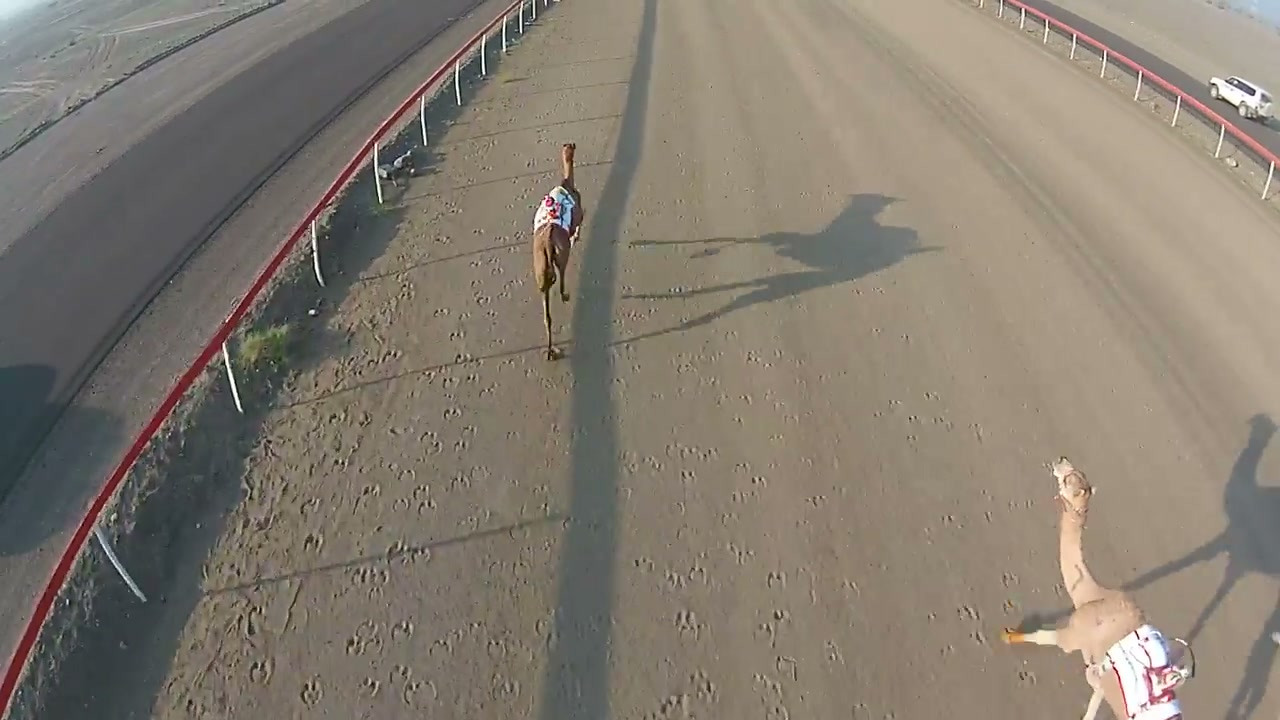animal_foot_print: (300, 222, 531, 708), (613, 349, 809, 715)
